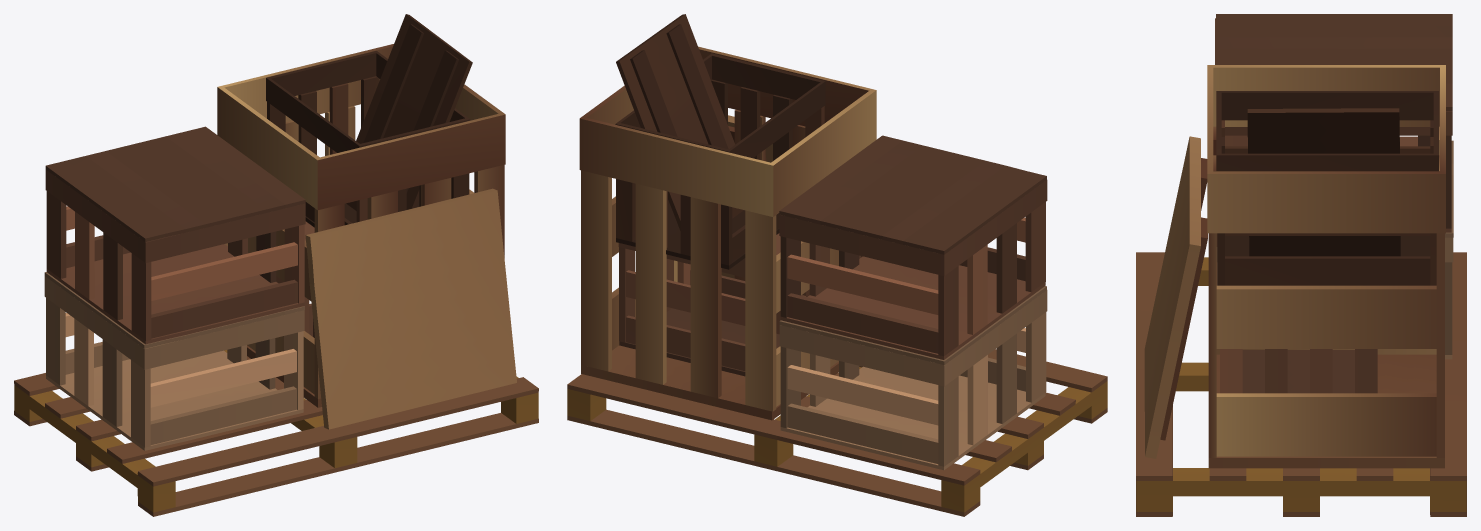
The model's file is Med Pallet of Wood Boxes.fbx.
3 views of the same model, side by side, from view 1: azimuth 30°, elevation 25°; view 2: azimuth 150°, elevation 25°; view 3: azimuth 270°, elevation 25° (orthographic). The views are drawn at different scales.
Parts seen in each view (by area): view 1: Med Pallet of Wood Boxes; view 2: Med Pallet of Wood Boxes; view 3: Med Pallet of Wood Boxes.
Boxes of the visible parts, x1,y1,x2,y2 form: Med Pallet of Wood Boxes: [14, 14, 538, 516]; Med Pallet of Wood Boxes: [567, 14, 1107, 516]; Med Pallet of Wood Boxes: [1136, 14, 1466, 516].
Size of the model in its own units: 382 by 289 by 462.
1 material, 1 textured.
